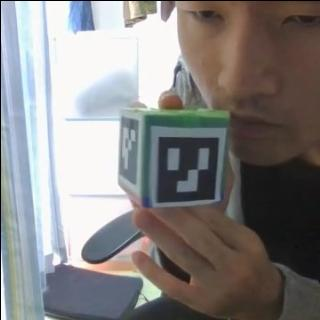armor: (150, 124, 226, 204), (118, 114, 140, 194)
robot: (115, 106, 229, 208)
